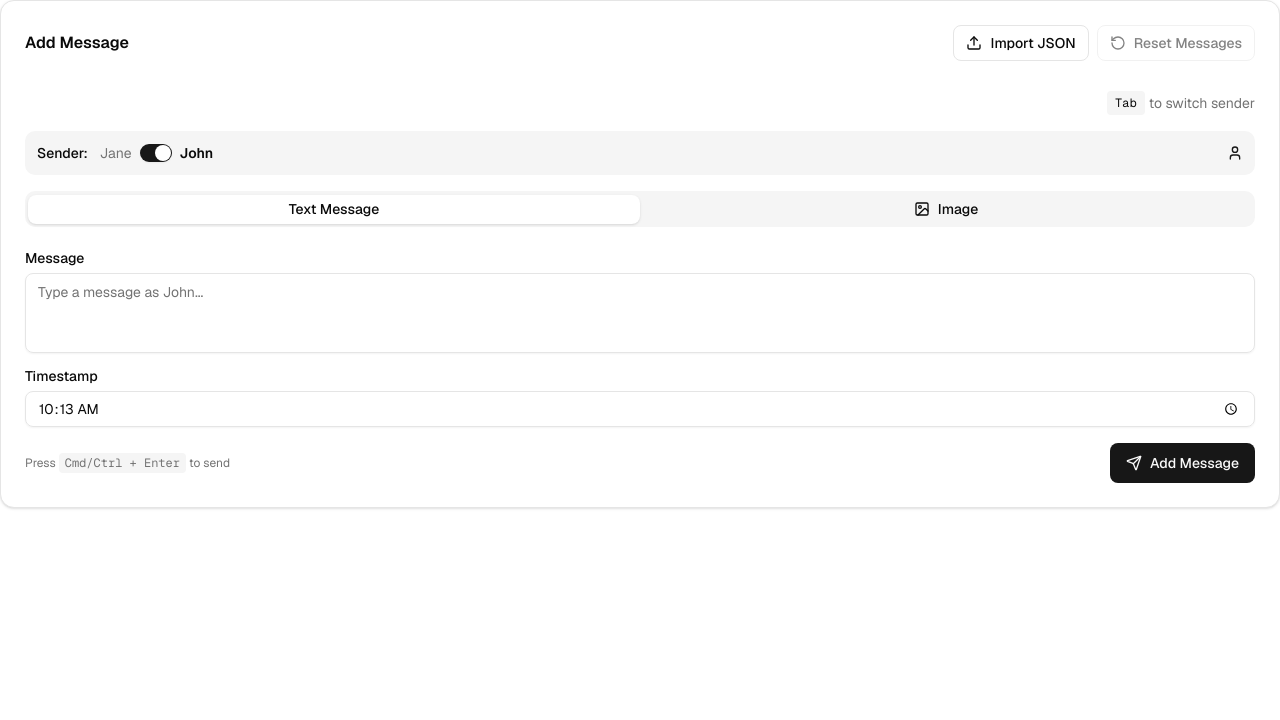
it: MessageForm JSON Import › JSON Import Button › shows AI-powered prompt in format dialog
Click the button "Import JSON": click(1021, 43) left=953, top=25, right=1089, bottom=61
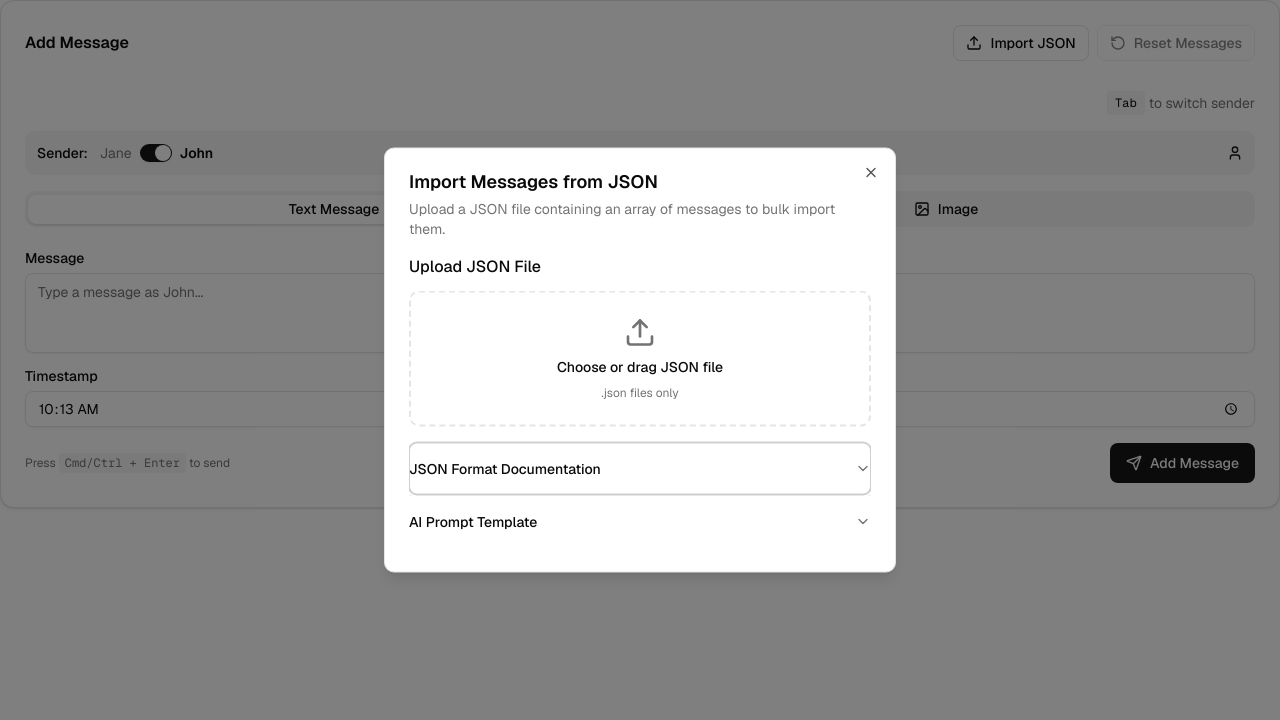
# Open the AI Prompt accordion
Click the button "AI Prompt Template": click(473, 522) left=409, top=496, right=871, bottom=548
(page scrolled)
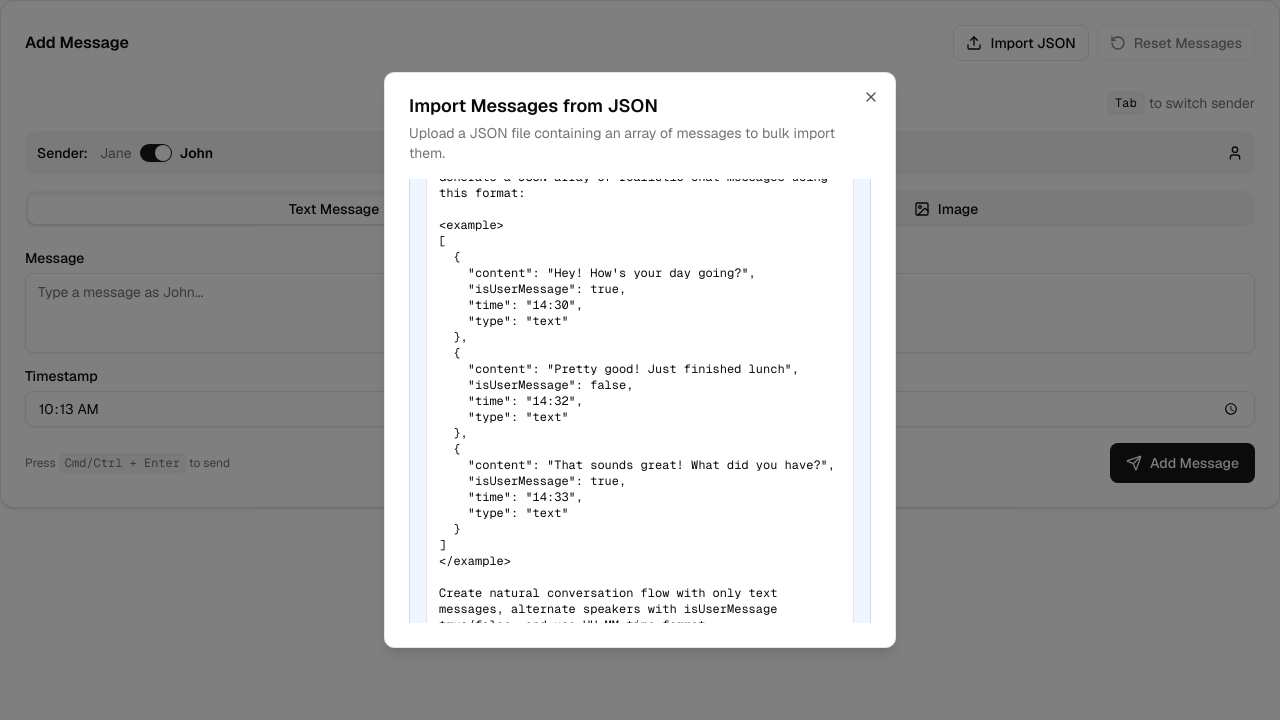
Expected: the text "Generate a JSON array" is shown, left=439, top=179, right=835, bottom=623
